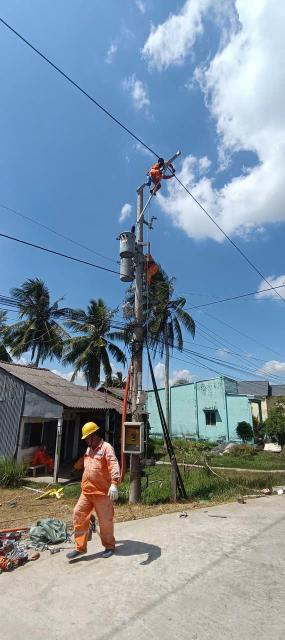gloves: (100, 482, 121, 511), (172, 166, 179, 174), (169, 173, 178, 179)
helmet: (76, 413, 105, 444)
shoes: (62, 539, 92, 567), (93, 541, 126, 559), (150, 188, 158, 199)
